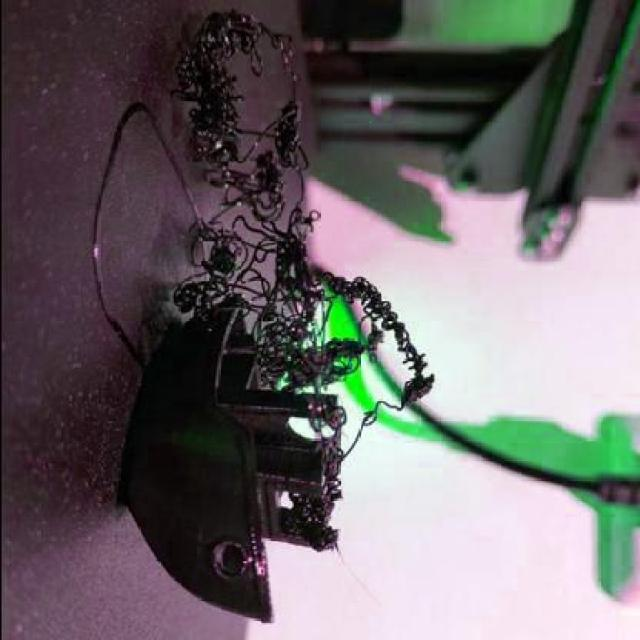Spaghetti: (170, 8, 436, 442), (281, 446, 344, 551)
